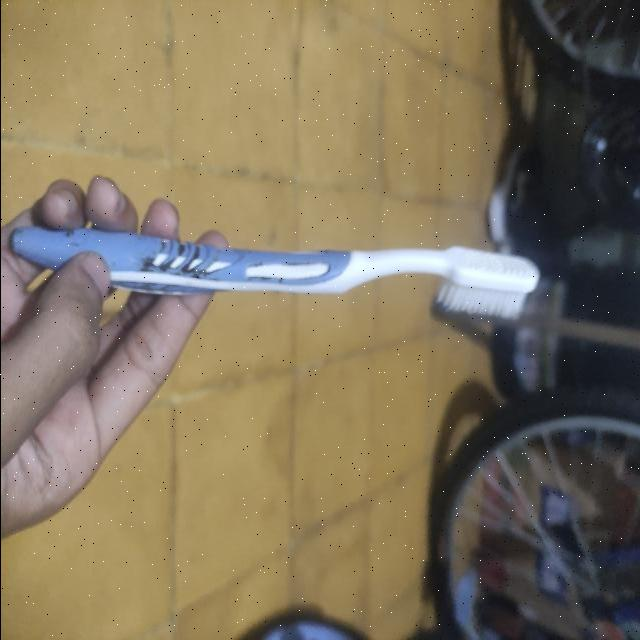toothbrush: (0, 215, 553, 344)
